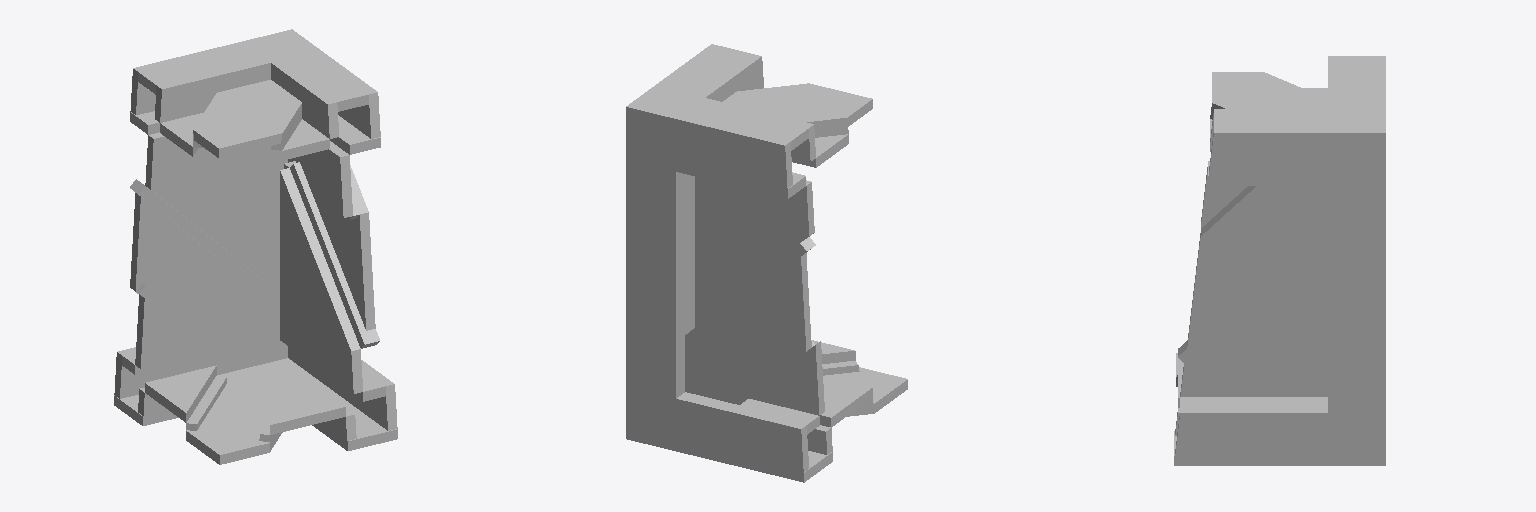
Rendered from break_pieces03.obj.
The picture shows the model from 3 angles: view 1: azimuth 30°, elevation 25°; view 2: azimuth 150°, elevation 25°; view 3: azimuth 270°, elevation 25°; orthographic projection.
Visible parts, largest first — view 1: crate.002; view 2: crate.002; view 3: crate.002.
Part boxes in pixels (x1,y1,x2,y2): crate.002: (114, 29, 397, 464); crate.002: (626, 44, 907, 482); crate.002: (1174, 56, 1385, 465).
Size of the model in its own units: 0.281 by 0.5 by 0.2889.